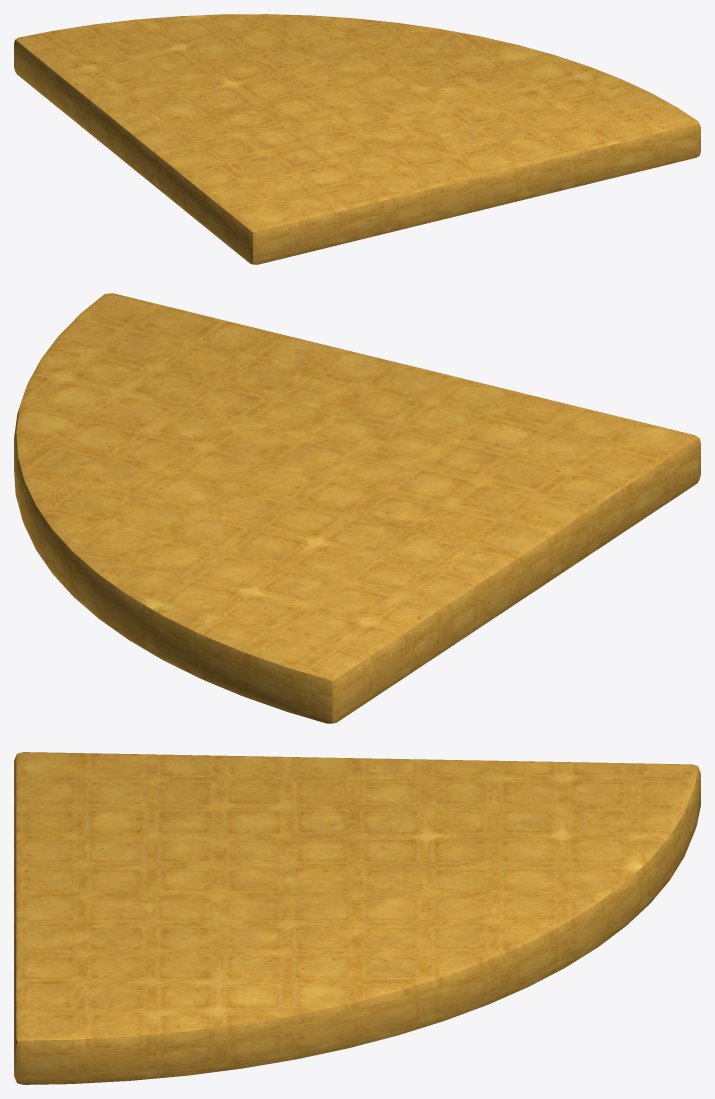
The model's file is waffle.fbx.
The picture shows the model from 3 angles, top to bottom: view 1: azimuth 30°, elevation 25°; view 2: azimuth 150°, elevation 25°; view 3: azimuth 270°, elevation 25°; orthographic projection. The views are drawn at different scales.
Visible parts, largest first — view 1: Cylinder002; view 2: Cylinder002; view 3: Cylinder002.
Boxes of the visible parts, x1,y1,x2,y2 form: Cylinder002: (14, 14, 700, 264); Cylinder002: (14, 293, 700, 723); Cylinder002: (14, 752, 700, 1084).
Bounding box in the file's own units: 38.75 × 3.02 × 38.72.
1 material, 1 textured.
